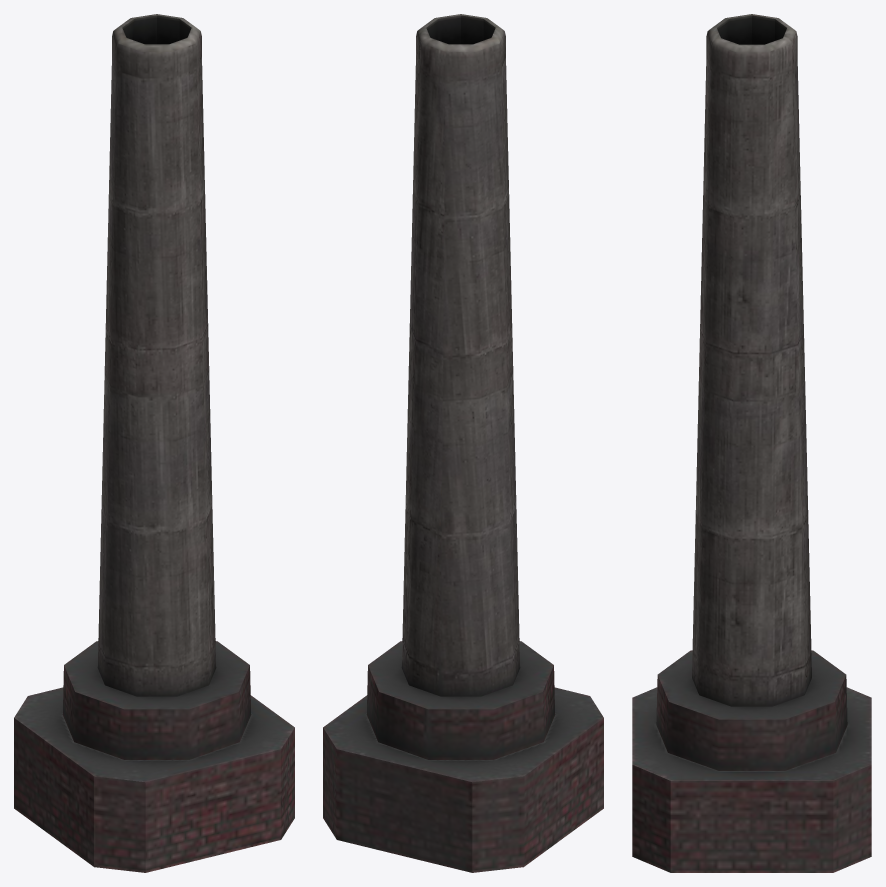
The model's file is Chimney.FBX.
3 views of the same model, side by side, from view 1: azimuth 30°, elevation 25°; view 2: azimuth 150°, elevation 25°; view 3: azimuth 270°, elevation 25° (orthographic).
Visible parts, largest first — view 1: Chimney; view 2: Chimney; view 3: Chimney.
Boxes of the visible parts, x1,y1,x2,y2 form: Chimney: (14,14,294,872); Chimney: (323,14,603,872); Chimney: (632,14,871,872).
Size of the model in its own units: 467 by 1740 by 475.
